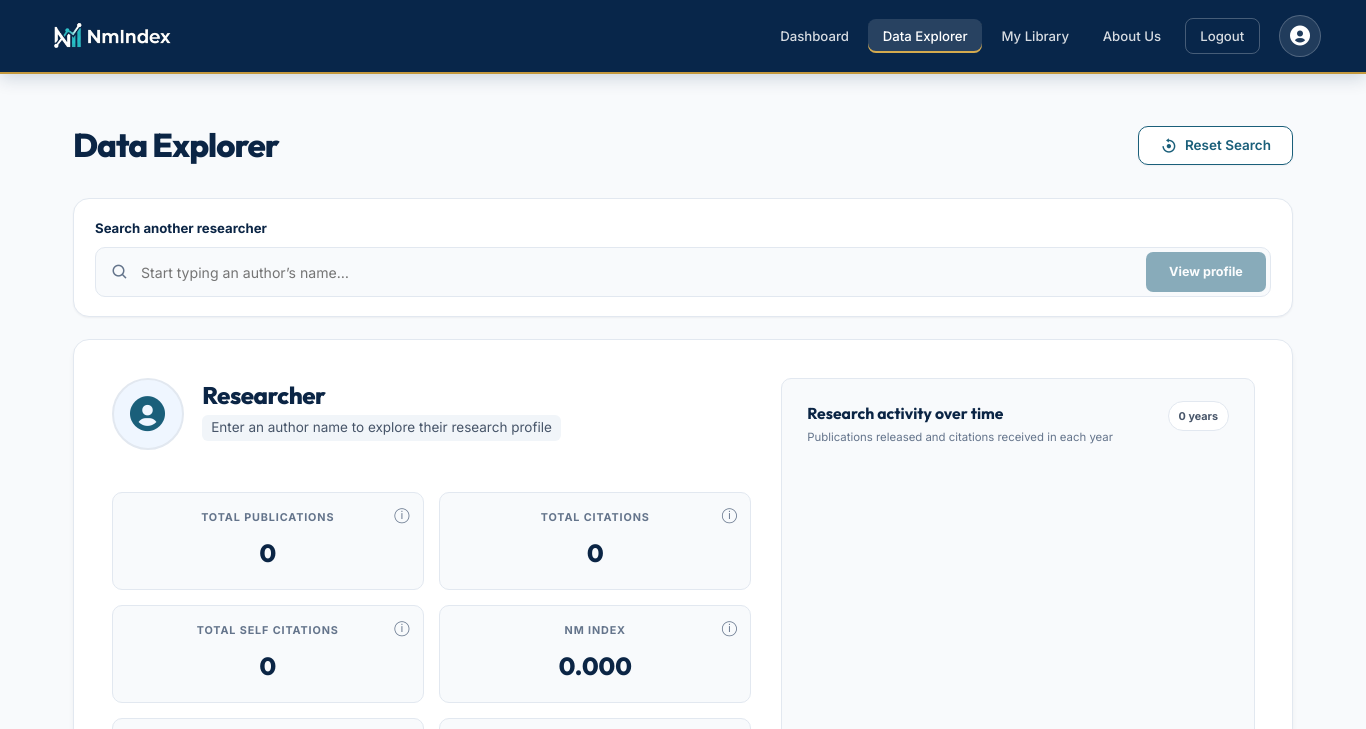
Data Explorer search › submitting one character shows the minimum and never queries the profile
Type "a" into the dropdown with id "explorer-author-search" at (636, 272), box x1=129 y1=248 x2=1142 y2=296
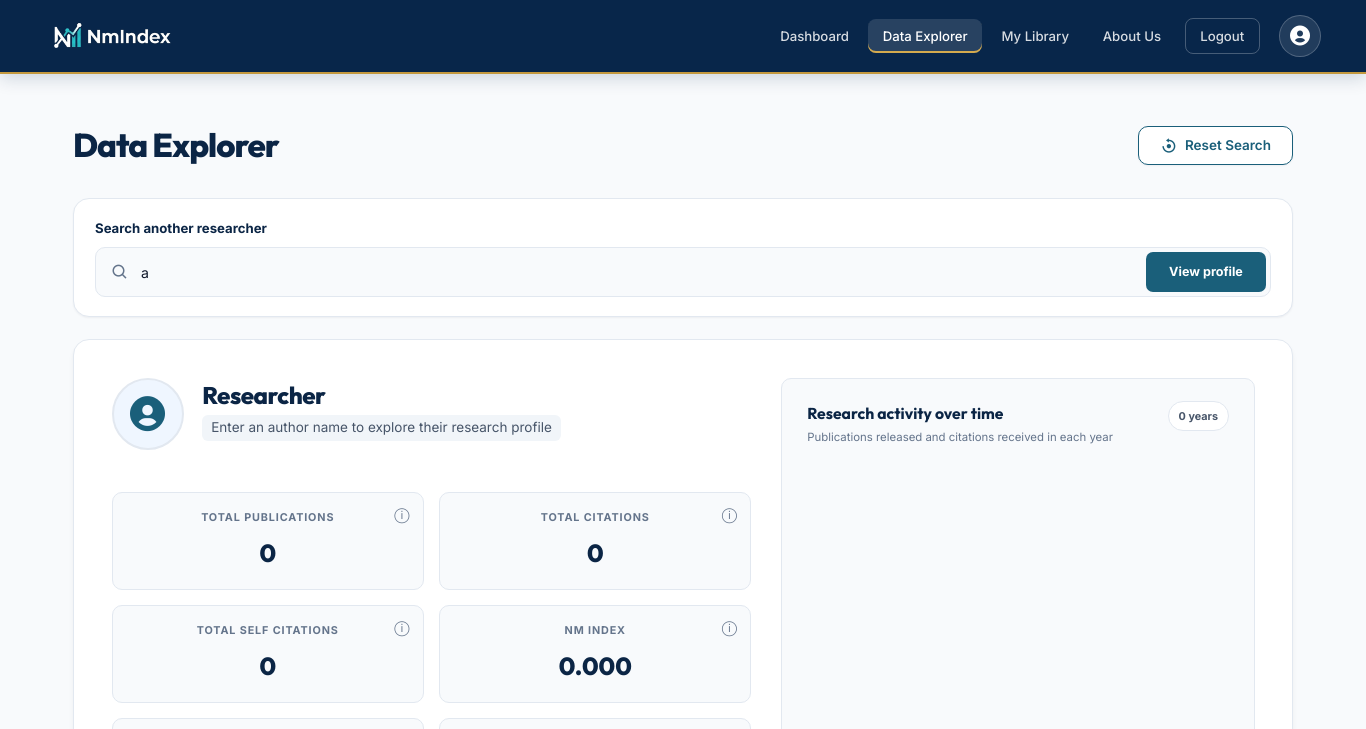
Submit the form with id "explorer-author-search", box x1=73 y1=198 x2=1293 y2=317
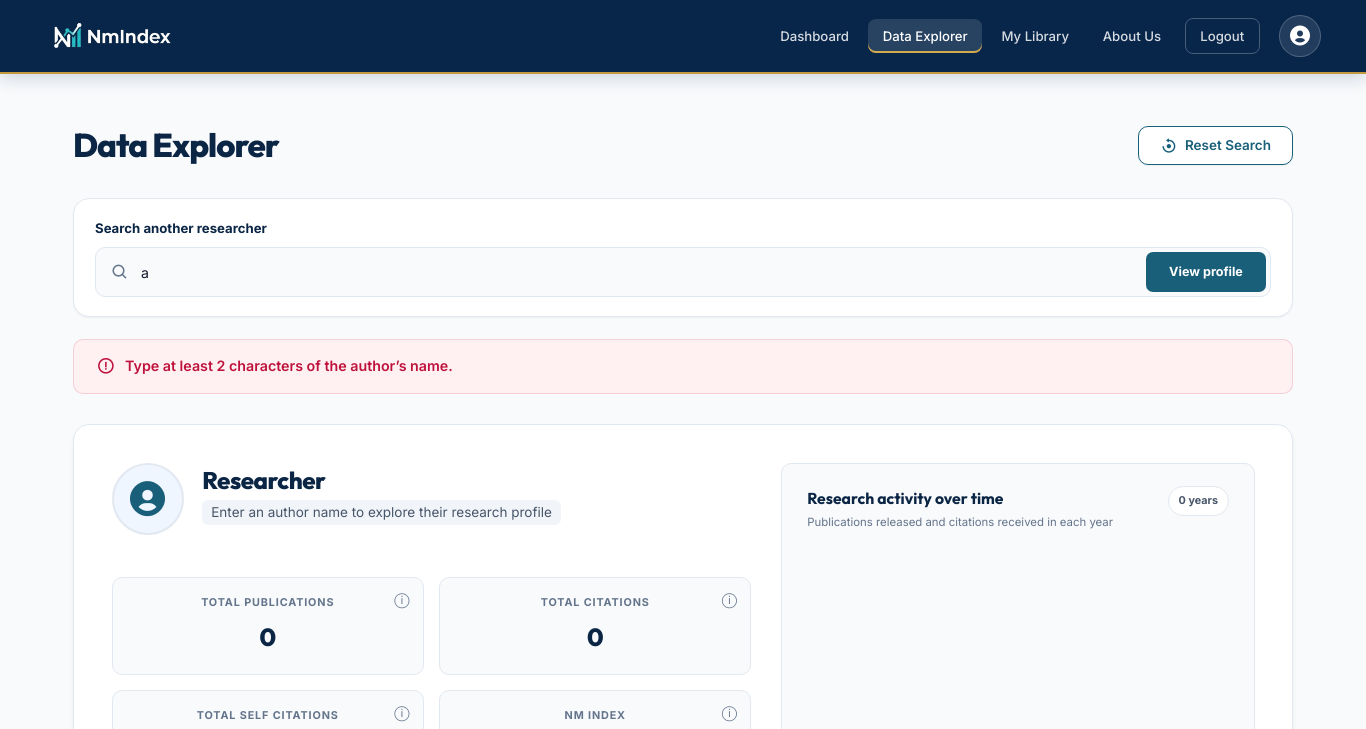
Result: the text "Type at least 2 characters of the author’s name." is shown at x1=125 y1=355 x2=453 y2=378
